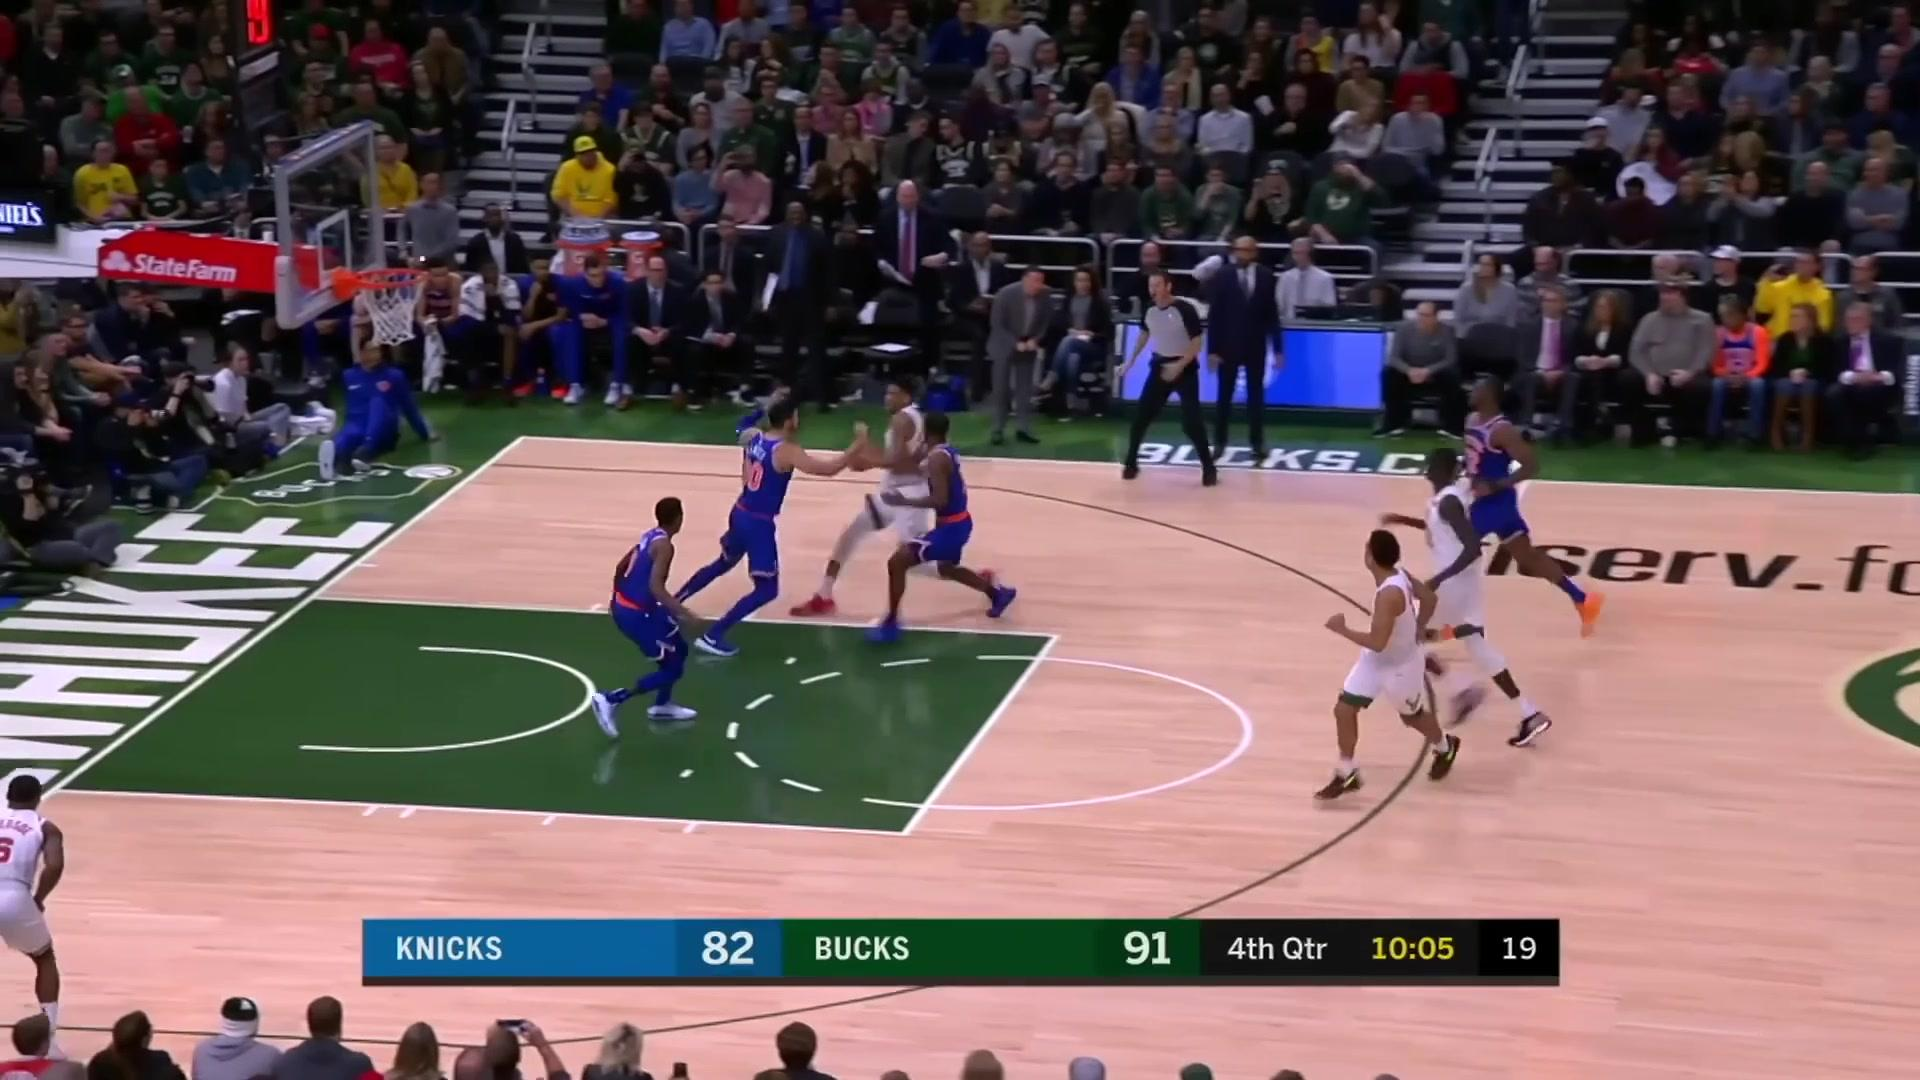foul: (727, 367, 1039, 665)
